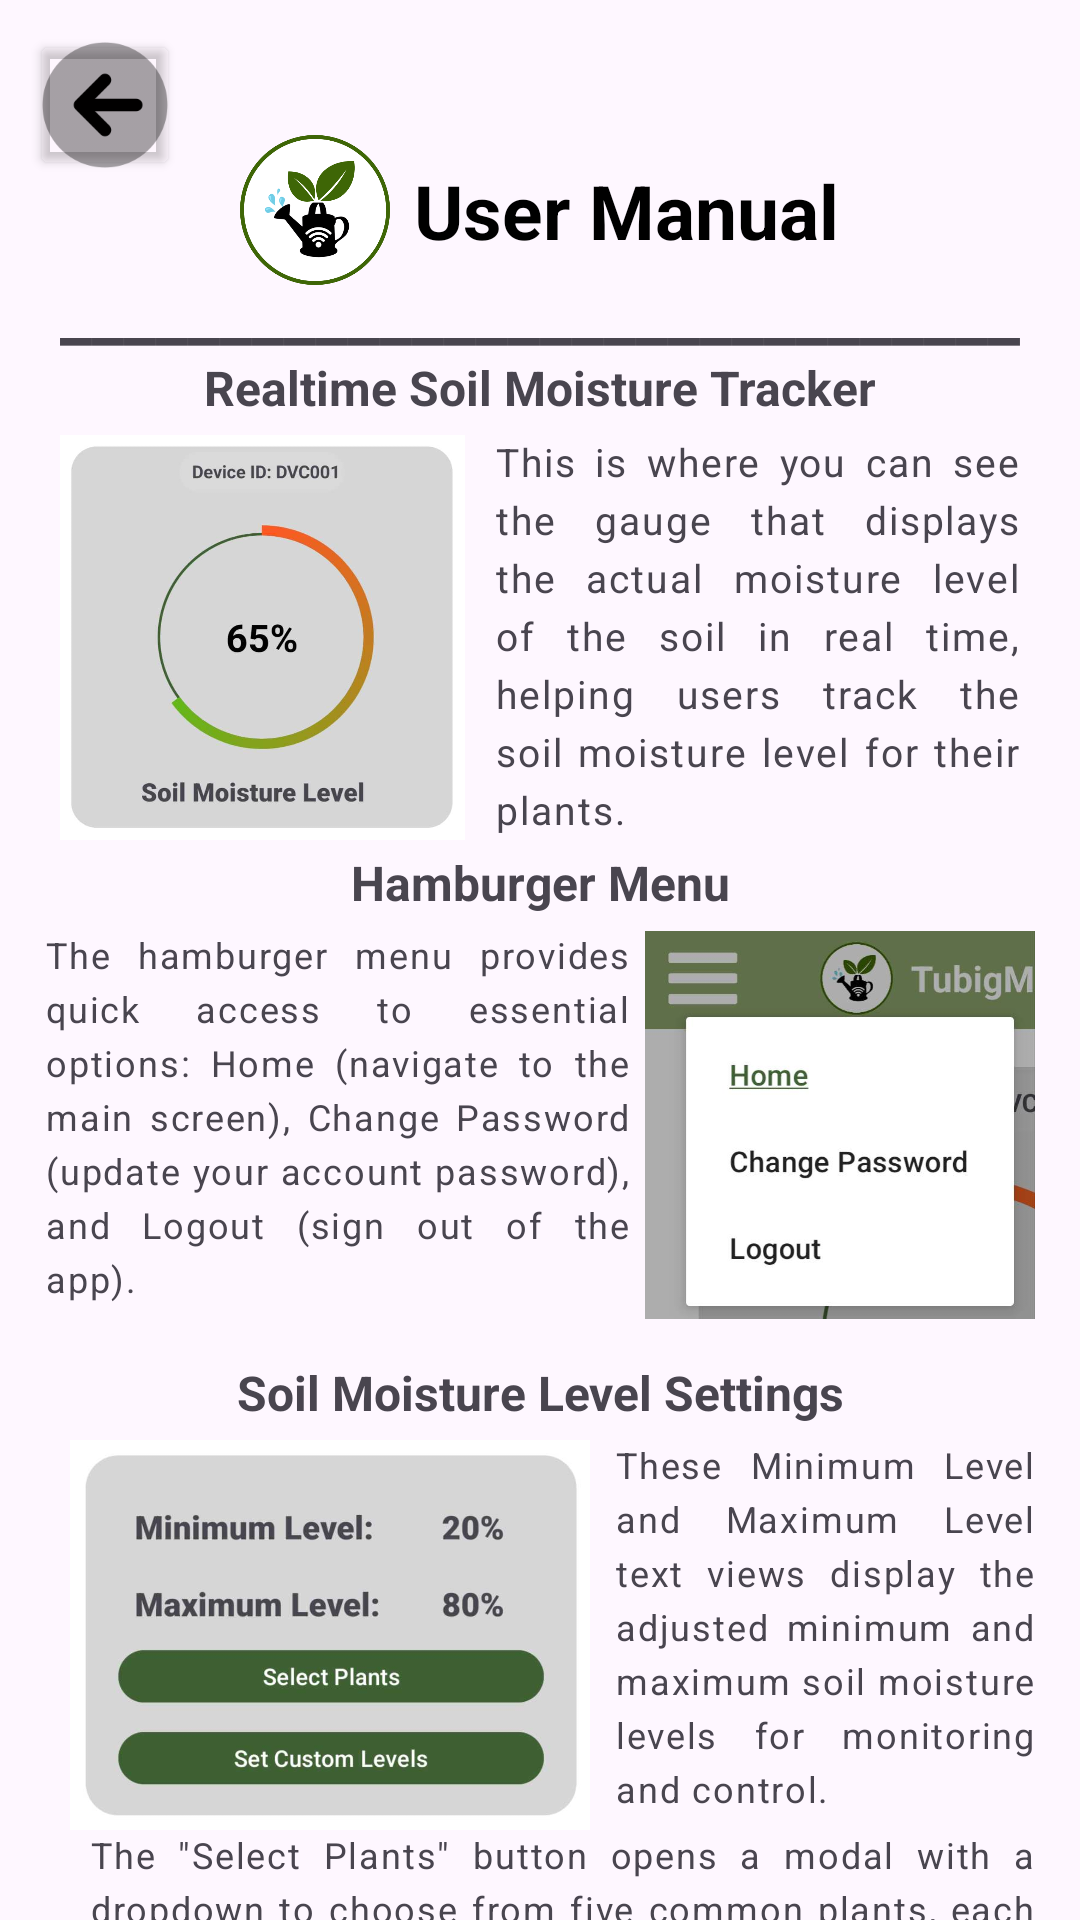

Icon bounding boxes for this 1080*1920 phone screenshot, format (x1, y1, x2, y2):
backbutton: (41, 42, 168, 168)
